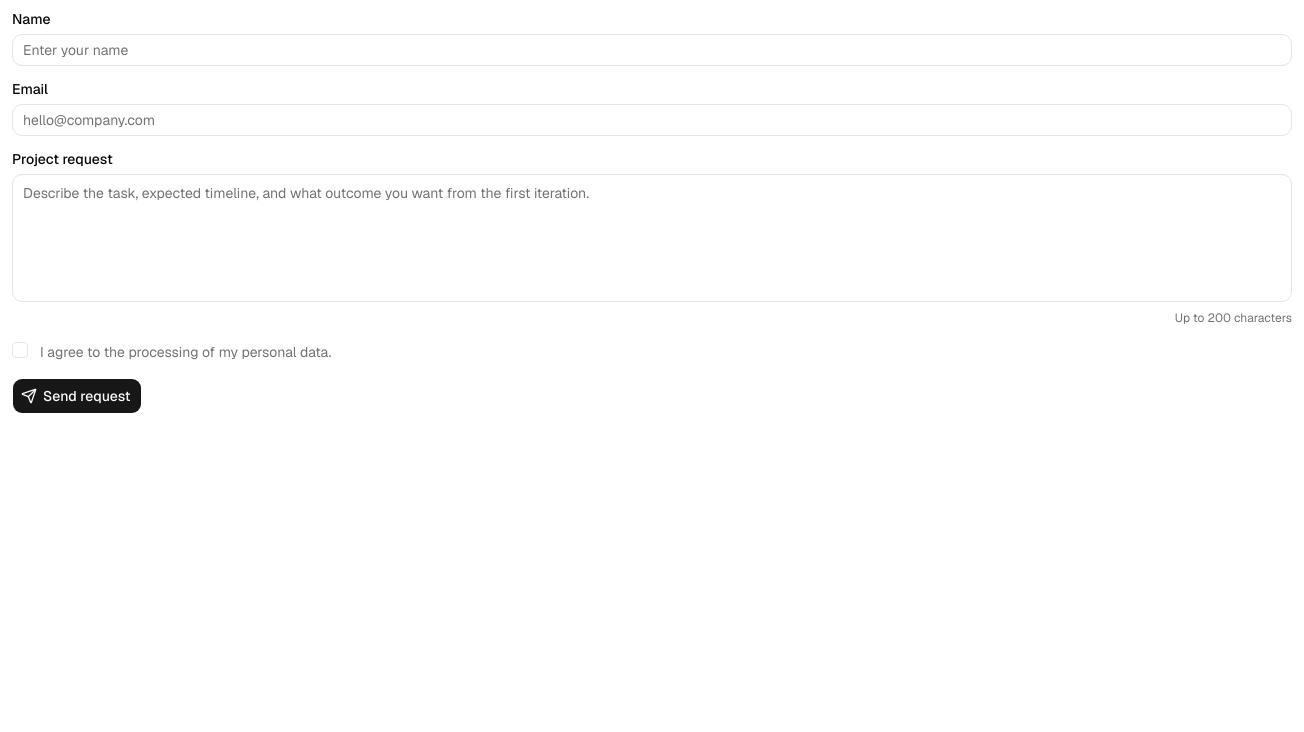
Test: LeadForm › submits valid data and confirms success with a toast
Type "Ada Lovelace" into the field labelled "Name".
click(652, 50); type("Ada Lovelace")  # box [12,34,1292,66]
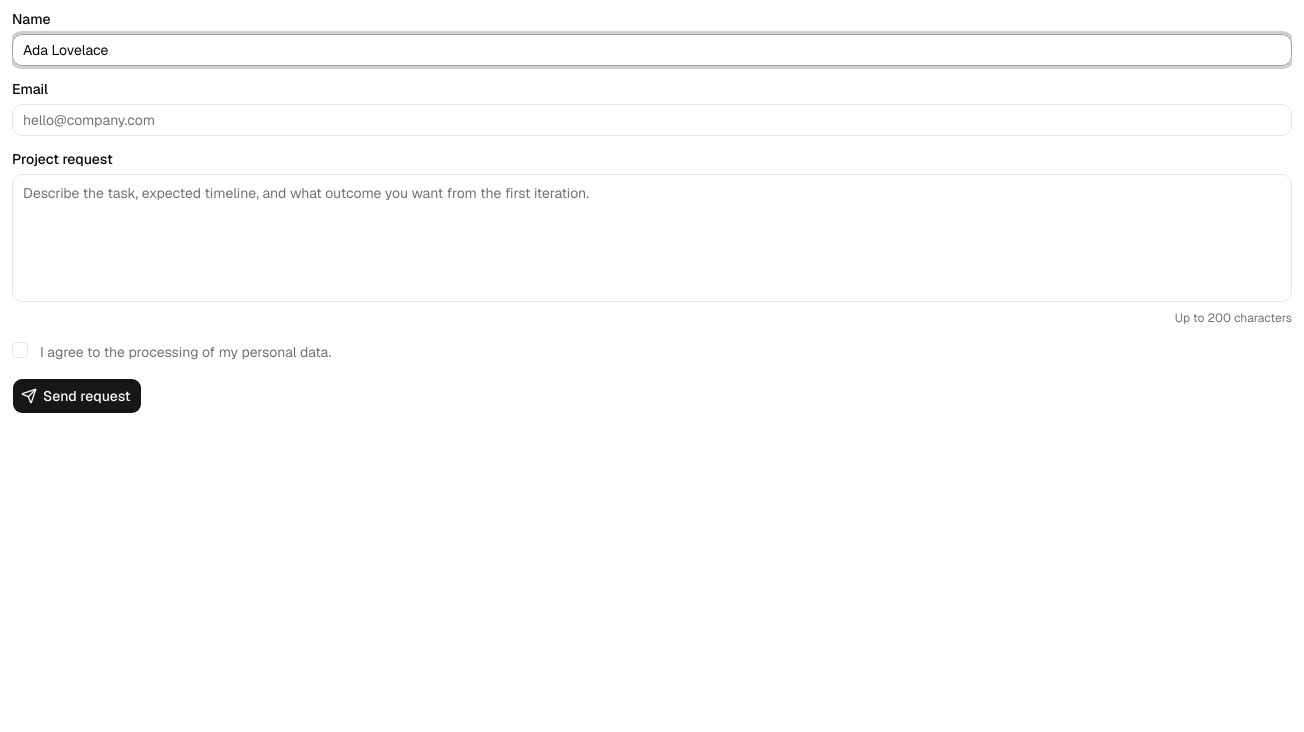
Type "ada@example.com" into the field labelled "Email".
click(652, 120); type("ada@example.com")  # box [12,104,1292,136]
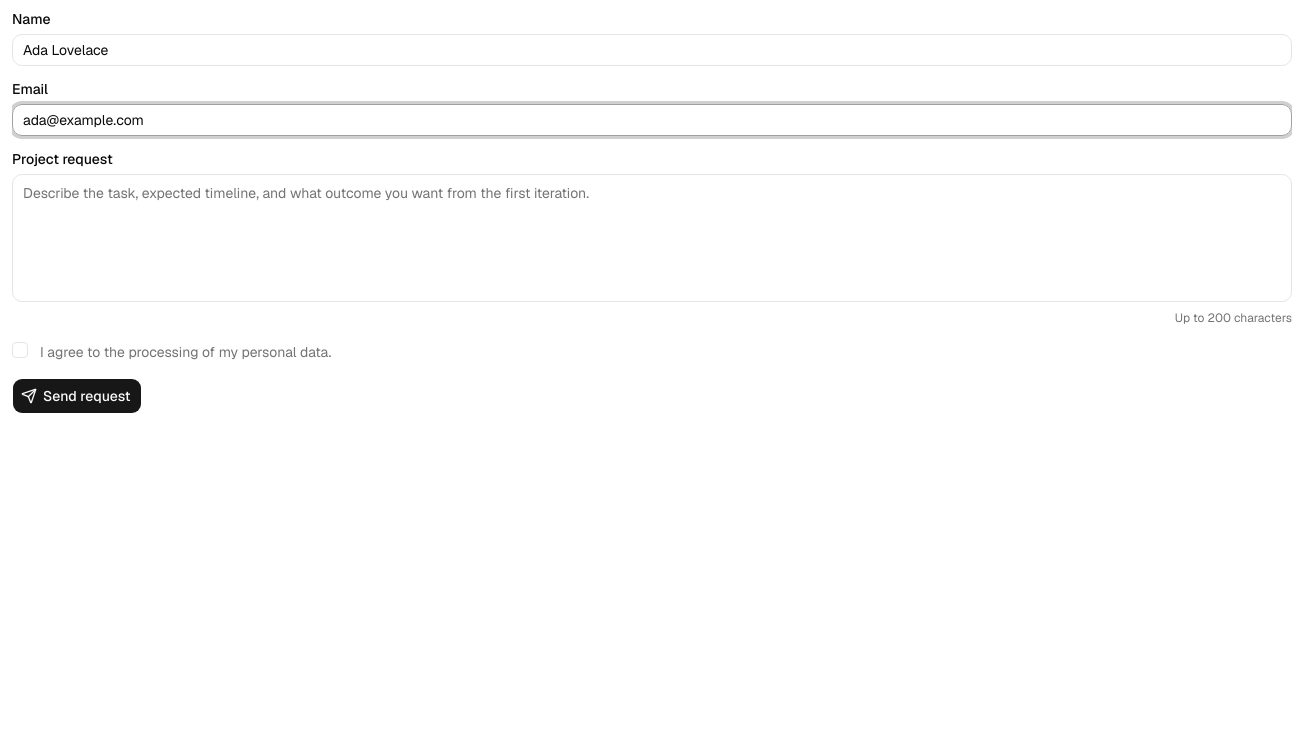
Type "Build a reliable lead intake flow." into the text box labelled "Project request".
click(652, 238); type("Build a reliable lead intake flow.")  # box [12,174,1292,302]
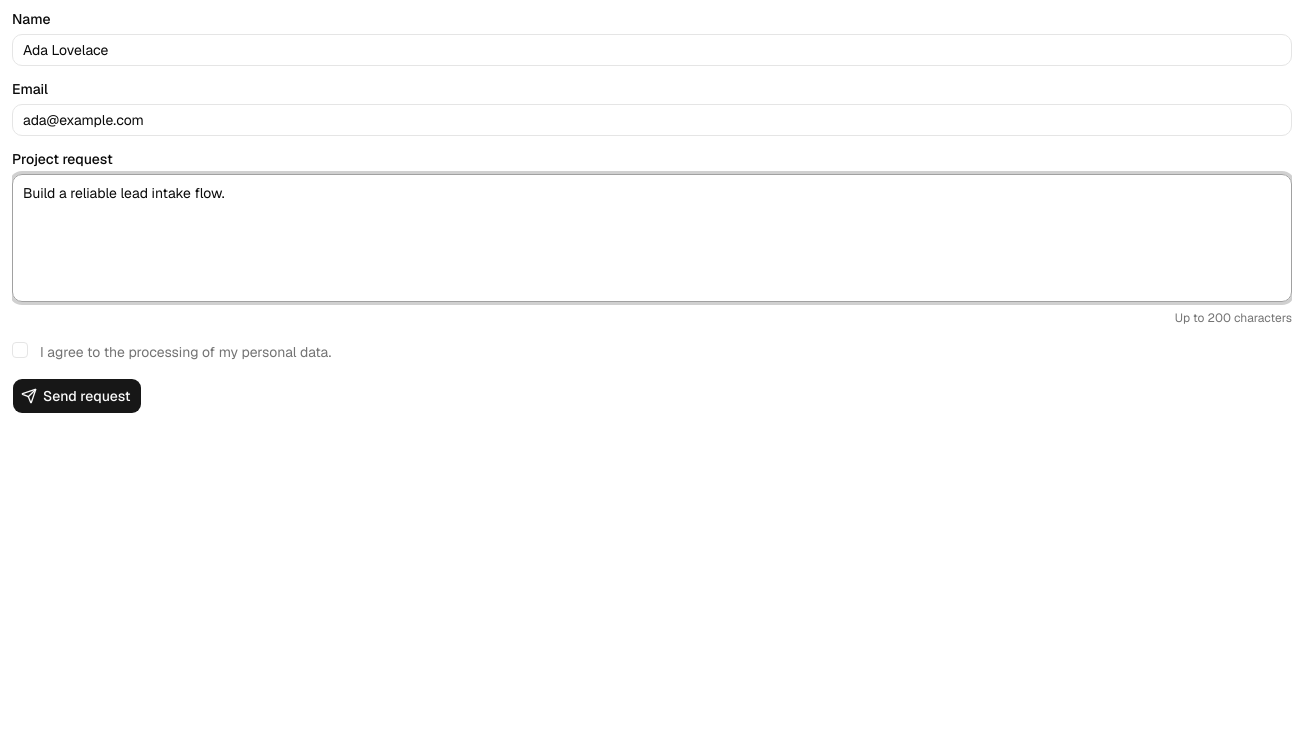
Click the checkbox named "I agree to the processing of my personal data.".
click(20, 350)  # box [12,342,28,358]
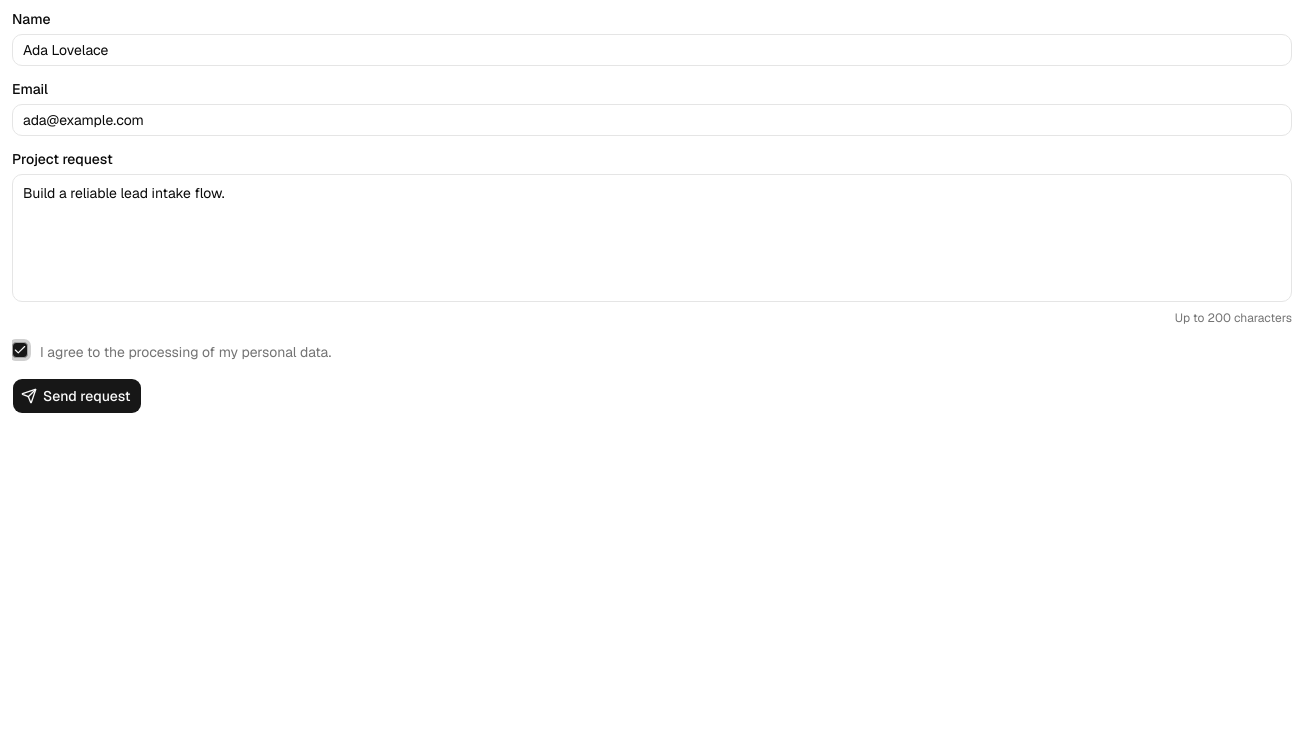
Click the button "Send request".
click(77, 396)  # box [12,378,142,414]
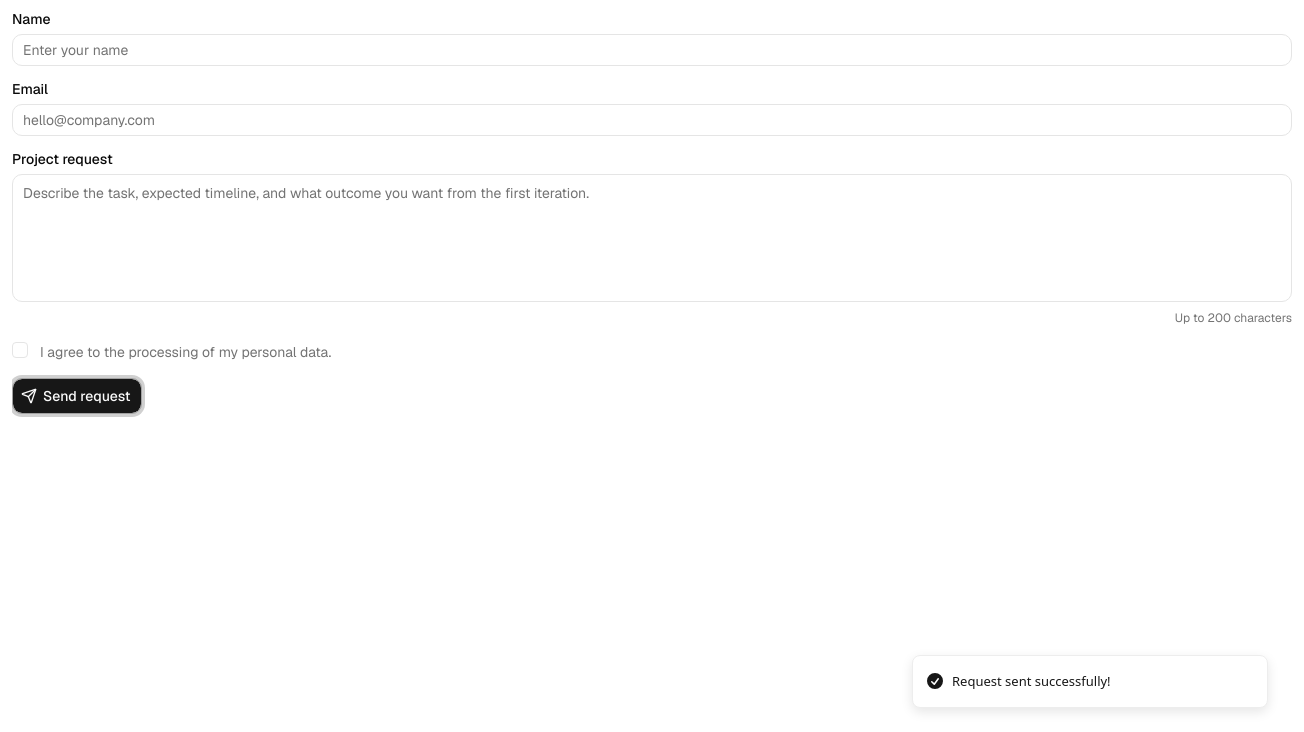
Now the text "Request sent successfully!" is shown, box [952,672,1111,691]
Now the field labelled "Name" is empty, box [12,34,1292,66]
Now the field labelled "Email" is empty, box [12,104,1292,136]
